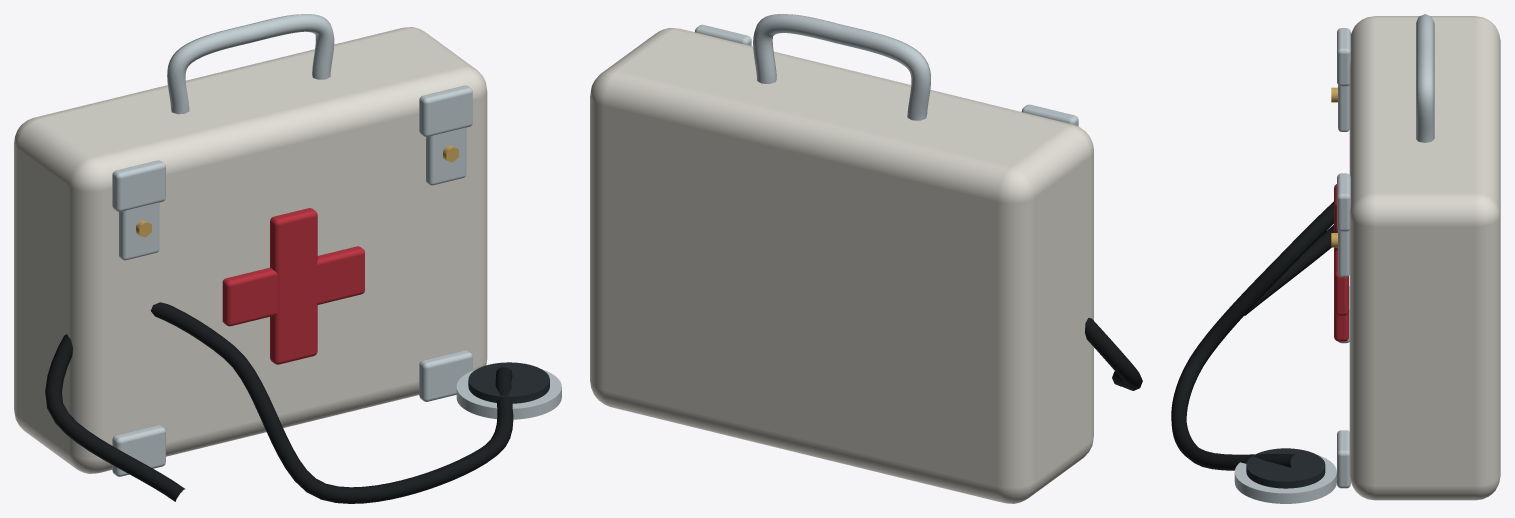
Rendered from medical.glb.
3 views of the same model, side by side, from view 1: azimuth 30°, elevation 25°; view 2: azimuth 150°, elevation 25°; view 3: azimuth 270°, elevation 25° (orthographic). The views are drawn at different scales.
Parts seen in each view (by area): view 1: InterestShield-medical-authored-v1; view 2: InterestShield-medical-authored-v1; view 3: InterestShield-medical-authored-v1.
Part boxes in pixels (bbox=[...]): InterestShield-medical-authored-v1: bbox=[14, 14, 561, 503]; InterestShield-medical-authored-v1: bbox=[590, 14, 1142, 503]; InterestShield-medical-authored-v1: bbox=[1171, 14, 1500, 503].
Bounding box in the file's own units: 3.2 × 2.49 × 2.
